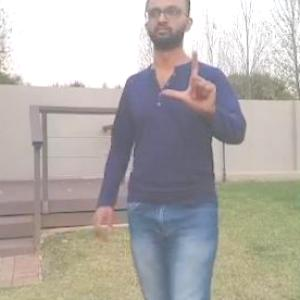land_hand: (161, 46, 218, 115)
